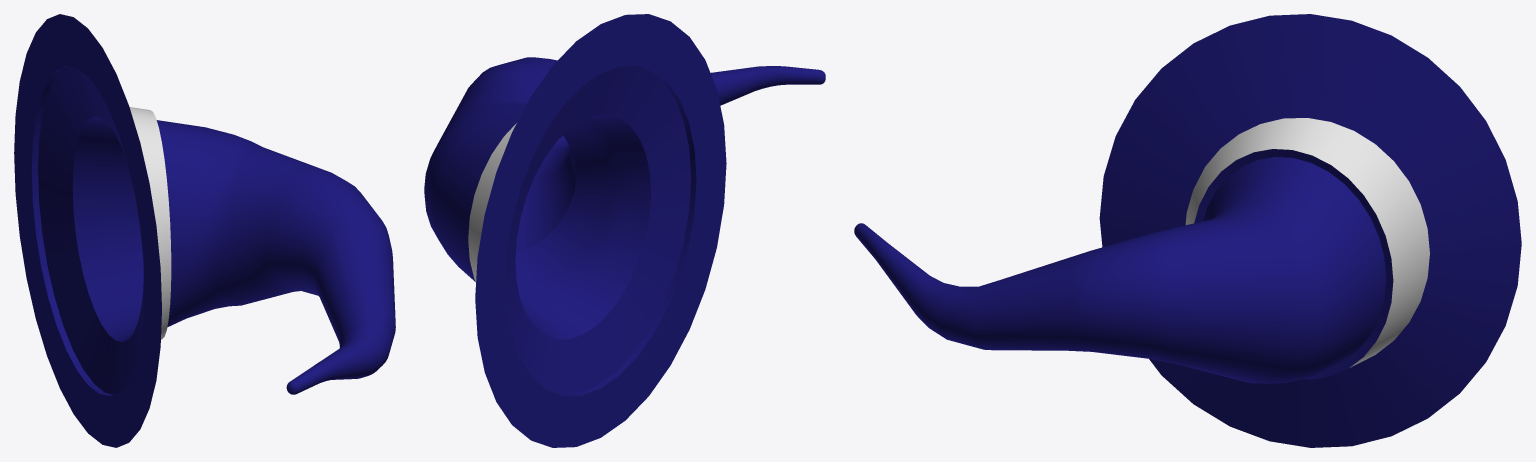
The model's file is WitchyHat2.fbx.
The picture shows the model from 3 angles, left to right: view 1: azimuth 30°, elevation 25°; view 2: azimuth 150°, elevation 25°; view 3: azimuth 270°, elevation 25°; orthographic projection. The views are drawn at different scales.
Visible parts, largest first — view 1: WitchyHat; view 2: WitchyHat; view 3: WitchyHat.
Part boxes in pixels (x1,y1,x2,y2): WitchyHat: (14, 14, 395, 447); WitchyHat: (424, 14, 825, 447); WitchyHat: (854, 14, 1521, 447).
Bounding box in the file's own units: 0.1952 × 0.329 × 0.4587.
